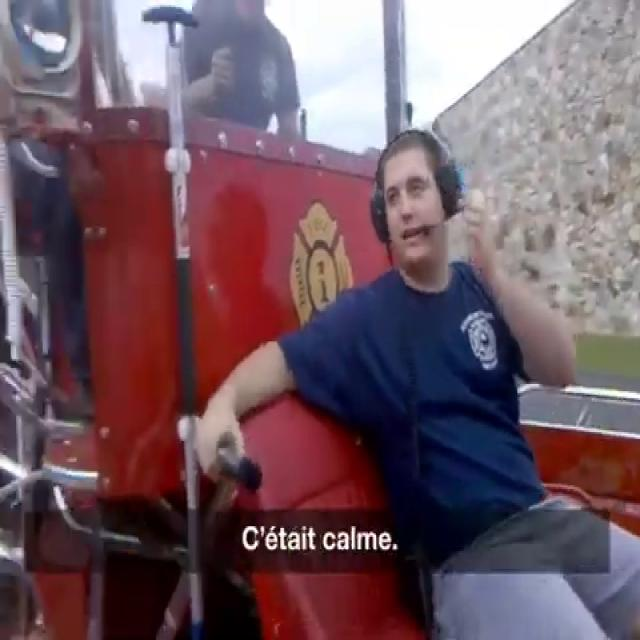earmuff: (432, 156, 468, 223), (367, 185, 395, 248)
helmet: (368, 124, 448, 186)
